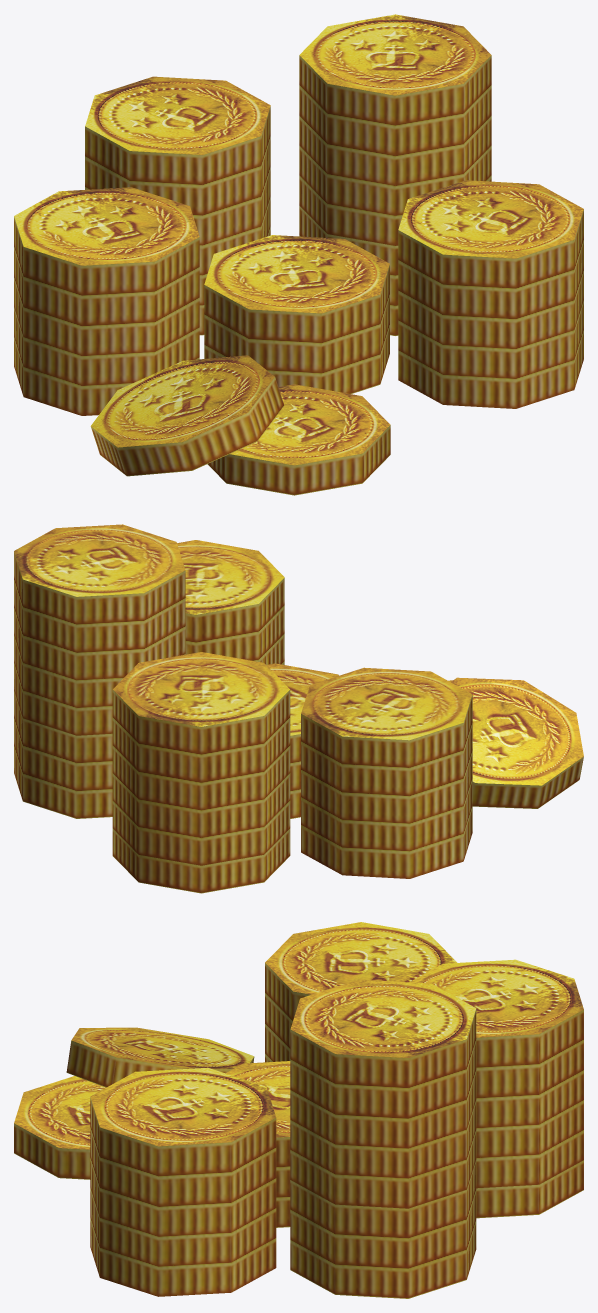
Rendered from coin.fbx.
The picture shows the model from 3 angles, top to bottom: view 1: azimuth 30°, elevation 25°; view 2: azimuth 150°, elevation 25°; view 3: azimuth 270°, elevation 25°; orthographic projection. The views are drawn at different scales.
Visible parts, largest first — view 1: coin; view 2: coin; view 3: coin.
Part boxes in pixels (x1,y1,x2,y2): coin: (14,14,583,495); coin: (14,524,583,893); coin: (14,922,583,1298).
Bounding box in the file's own units: 19.39 × 9.25 × 19.85.
